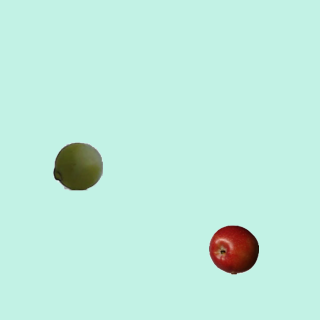Apple Braeburn: (208, 224, 258, 274)
Grape White 4: (52, 140, 102, 190)
